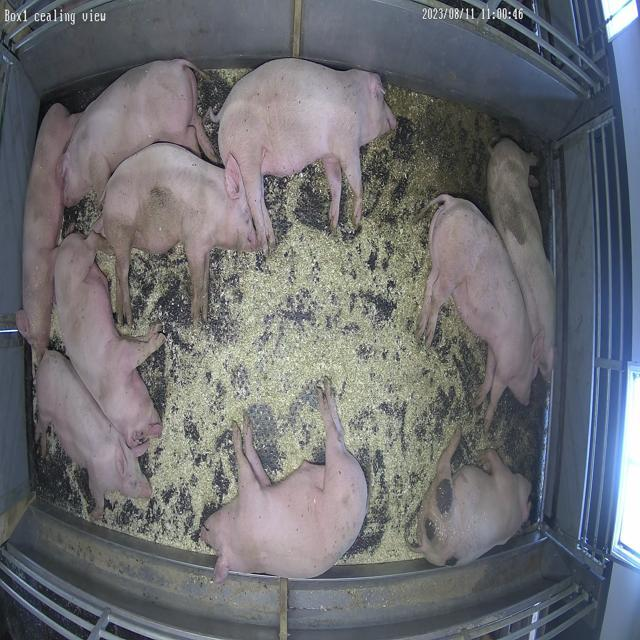Dirt: (362, 80, 530, 236), (487, 376, 551, 524)
Pig: (219, 59, 397, 250), (200, 382, 367, 584), (99, 144, 257, 322), (418, 194, 537, 428), (54, 232, 165, 456), (63, 58, 218, 206), (35, 351, 151, 518), (15, 103, 79, 364), (488, 138, 557, 378), (416, 433, 533, 566)
